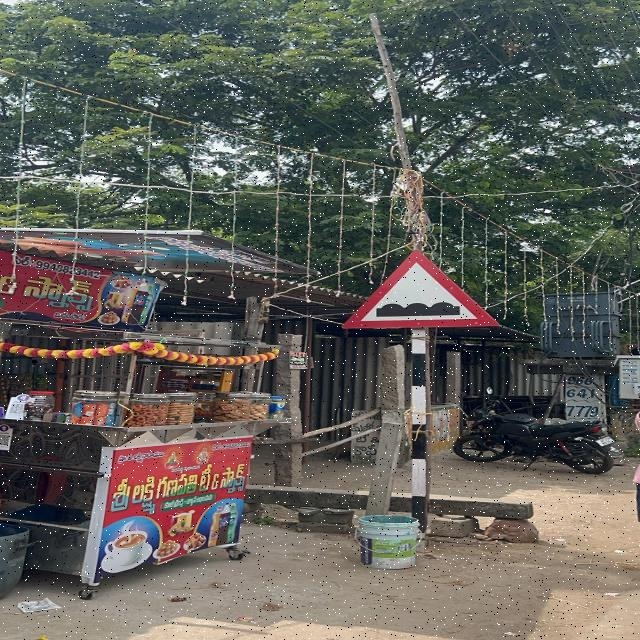Rumble_strip: (347, 257, 504, 331)
